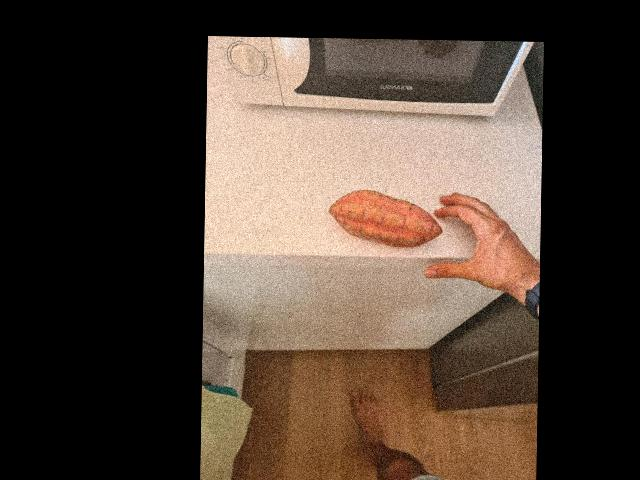sweet_potato: (324, 186, 440, 249)
